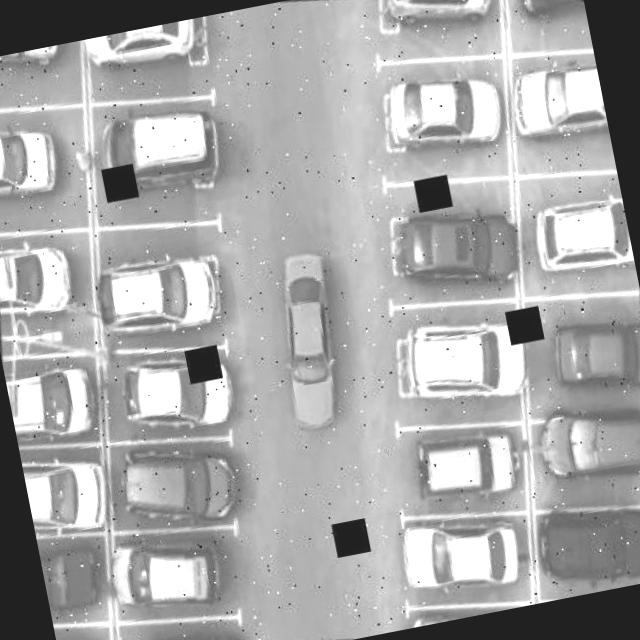car: (382, 301, 535, 413), (105, 426, 251, 533), (95, 230, 238, 338), (91, 91, 231, 199), (392, 504, 532, 611), (372, 58, 511, 164), (382, 194, 522, 298), (112, 336, 249, 442), (105, 524, 242, 626), (527, 387, 640, 504), (528, 486, 640, 598), (405, 415, 527, 508), (532, 299, 640, 402), (501, 45, 606, 149), (522, 186, 632, 276), (3, 352, 100, 446), (20, 440, 110, 538), (0, 230, 86, 321), (0, 112, 78, 211), (88, 18, 206, 78), (38, 532, 110, 618), (376, 0, 499, 38), (0, 41, 78, 75), (511, 0, 584, 23)
